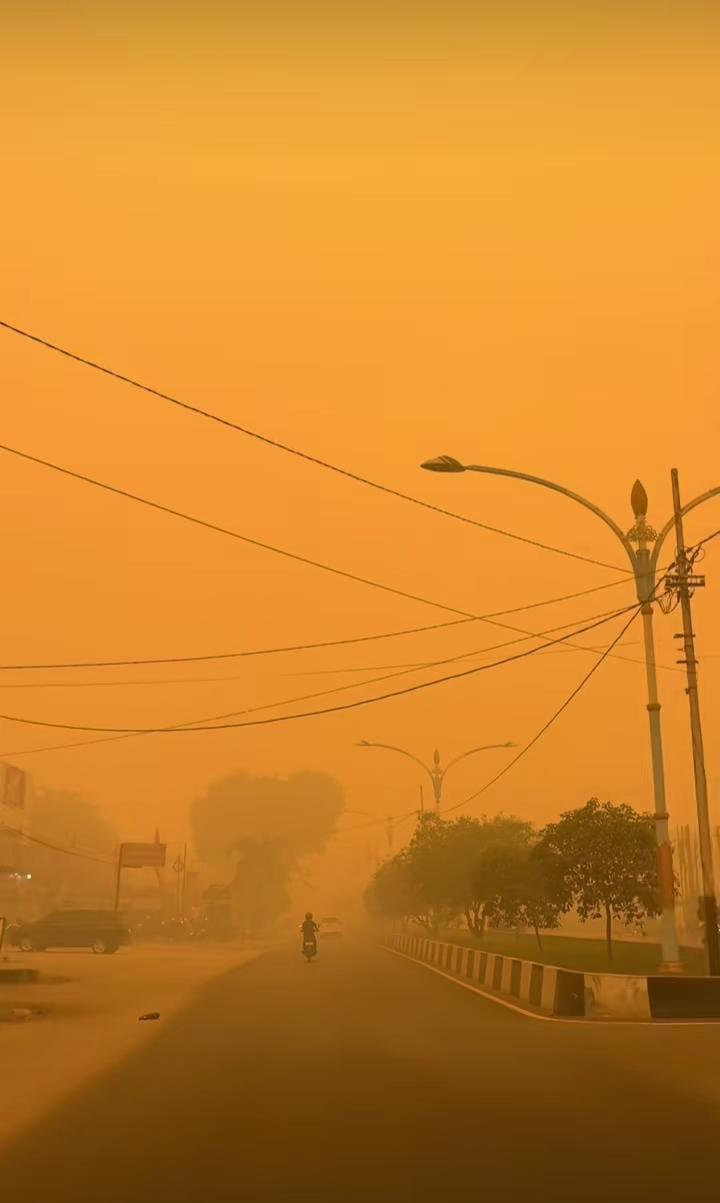Deteksi-Objek-Citra-Berasap: (0, 0, 720, 1203)
Gedung: (0, 762, 115, 915)
Kendaraan: (8, 907, 131, 955), (300, 929, 320, 963), (319, 917, 343, 937)
Manusia: (300, 911, 319, 949)
Vegetasi: (184, 767, 347, 934), (363, 811, 543, 941), (526, 795, 663, 963)
